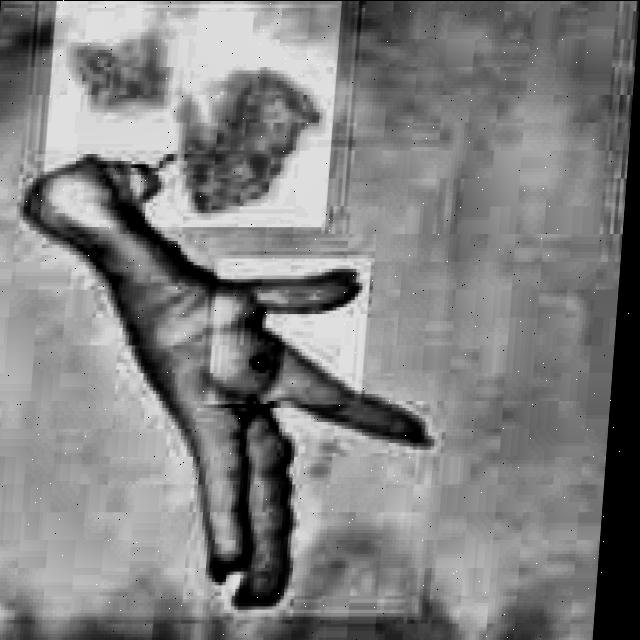Bumble foot: (0, 154, 457, 616), (245, 348, 279, 380)
